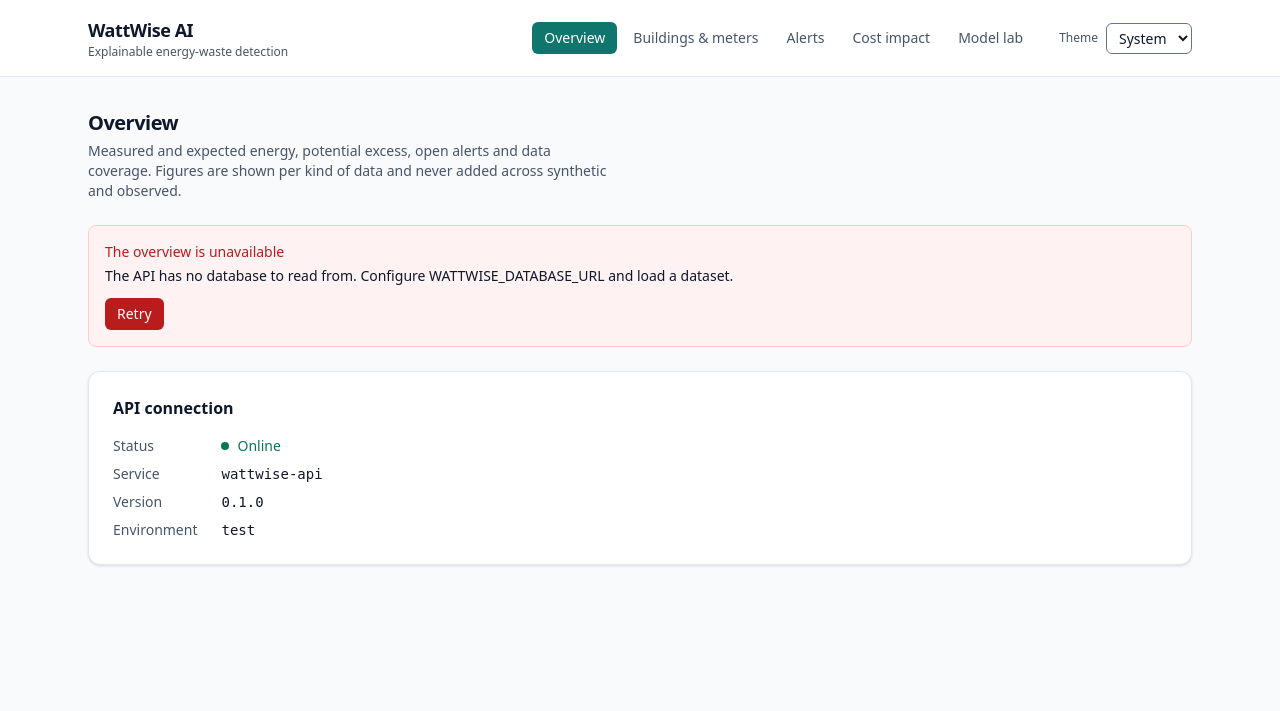
Overview page › explains a missing database and offers a retry
Expected: the text "The overview is unavailable" is shown, [105, 242, 284, 261]
Expected: the text "WATTWISE_DATABASE_URL" is shown, [105, 266, 733, 285]
Click the button "Retry" at (134, 314), box [105, 298, 164, 330]
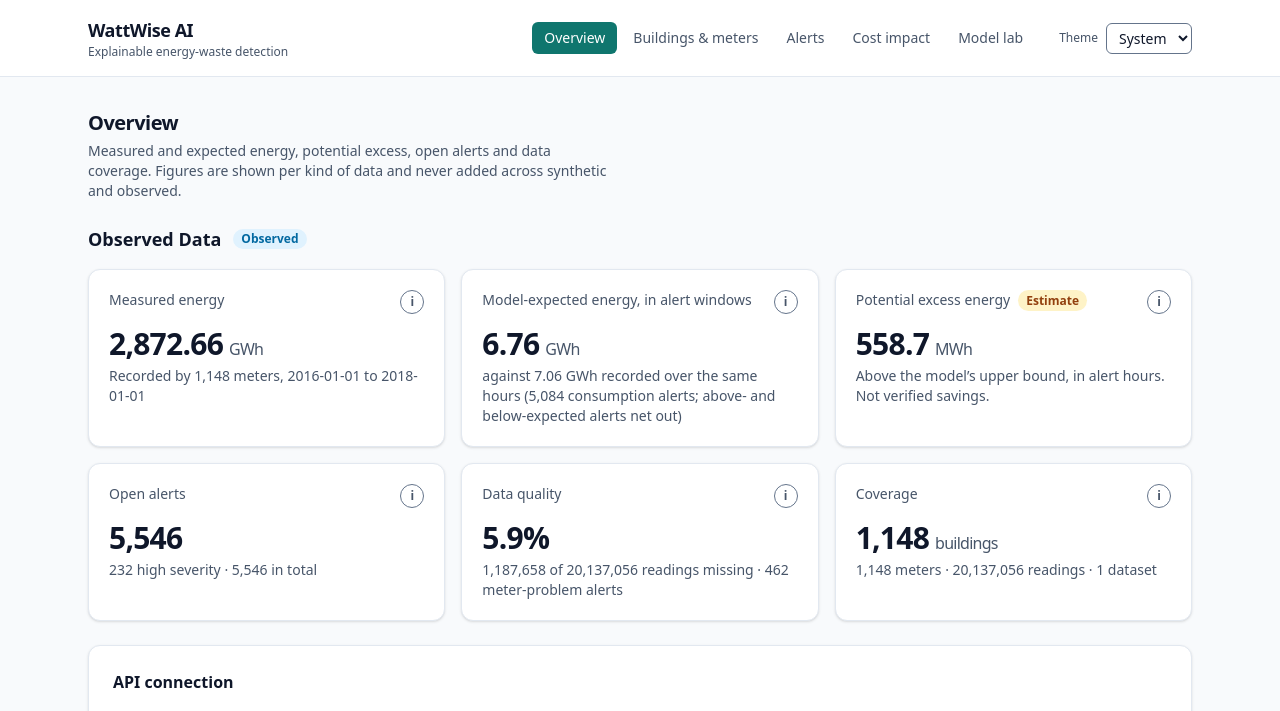
Result: the element "Measured energy" is shown at [88, 269, 445, 447]
